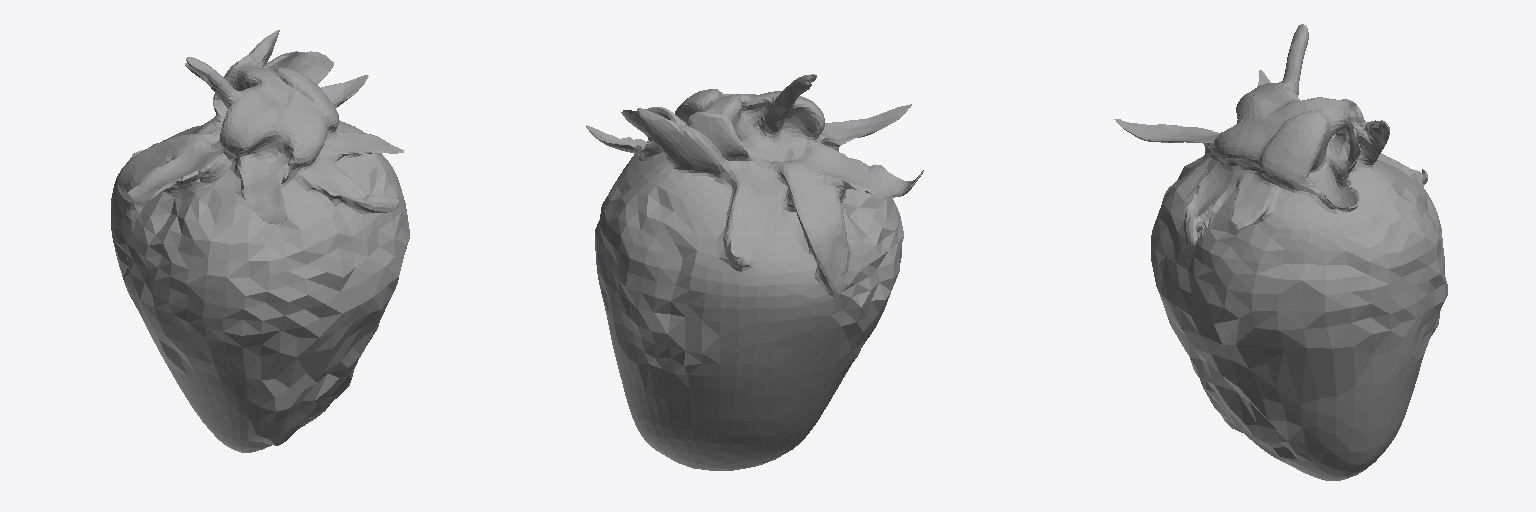
Rendered from strawberry.obj.
The picture shows the model from 3 angles: view 1: azimuth 30°, elevation 25°; view 2: azimuth 150°, elevation 25°; view 3: azimuth 270°, elevation 25°; orthographic projection.
Visible parts, largest first — view 1: Strawberry; view 2: Strawberry; view 3: Strawberry.
Part boxes in pixels (x1,y1,x2,y2): Strawberry: (111, 30, 409, 452); Strawberry: (586, 74, 923, 470); Strawberry: (1114, 24, 1447, 480).
Bounding box in the file's own units: 14.53 × 19.27 × 14.44.